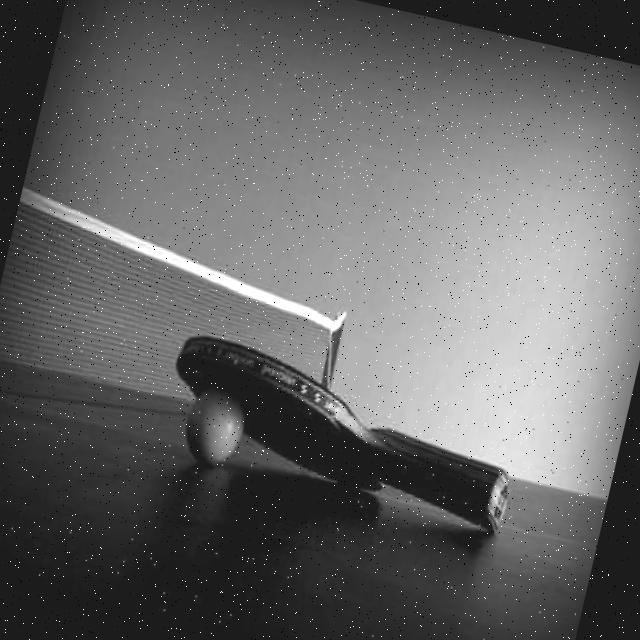ping-pong-ball: (177, 374, 253, 473)
